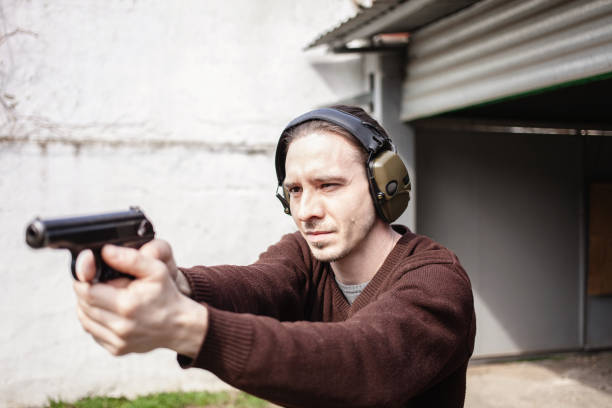gun: (23, 207, 157, 282)
